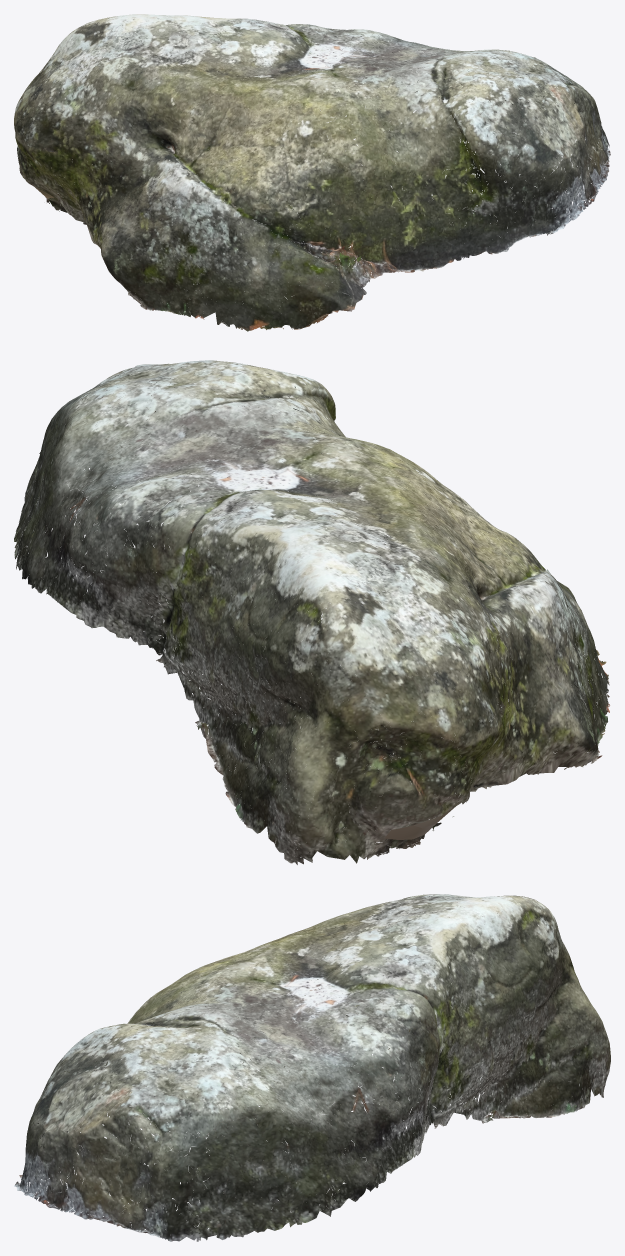
3 renders of one model, top to bottom at view 1: azimuth 30°, elevation 25°; view 2: azimuth 150°, elevation 25°; view 3: azimuth 270°, elevation 25°, orthographic. The views are drawn at different scales.
Parts seen in each view (by area): view 1: model_tex_u1_v1_0.002; view 2: model_tex_u1_v1_0.002; view 3: model_tex_u1_v1_0.002.
Part boxes in pixels (x1,y1,x2,y2): model_tex_u1_v1_0.002: (14, 14, 610, 331); model_tex_u1_v1_0.002: (14, 360, 609, 864); model_tex_u1_v1_0.002: (14, 894, 610, 1241).
Size of the model in its own units: 0.9178 by 0.3735 by 0.856.
1 material, 1 textured.
